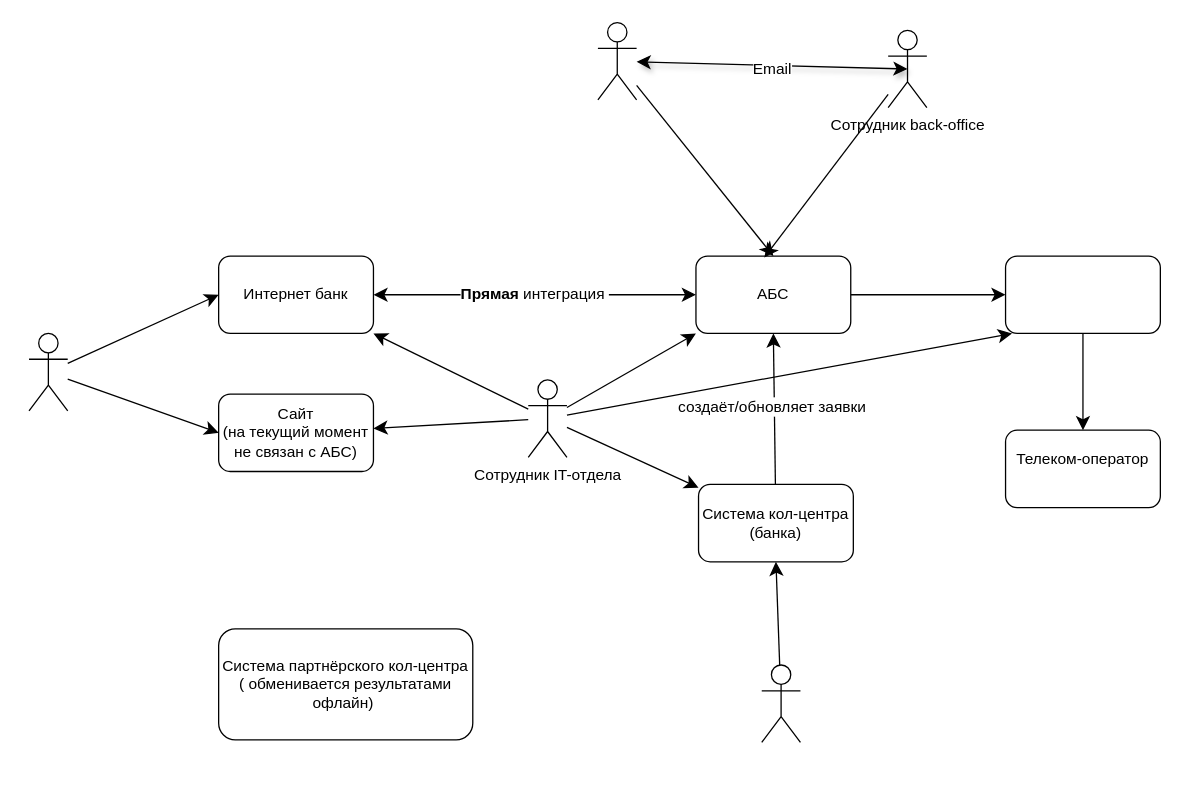
Image size: 1183x792. Some labels were removed from this diagram. The shapes that lost their labels are listed below. From the top down, each one's centre as x and y in pixels, then its label:
At (617,60): "Сотрудник f ront-office".
At (1082,294): "СМС-шлюз".
At (48,371): "Клиент".
At (780,703): "Оператор колл-центра".
